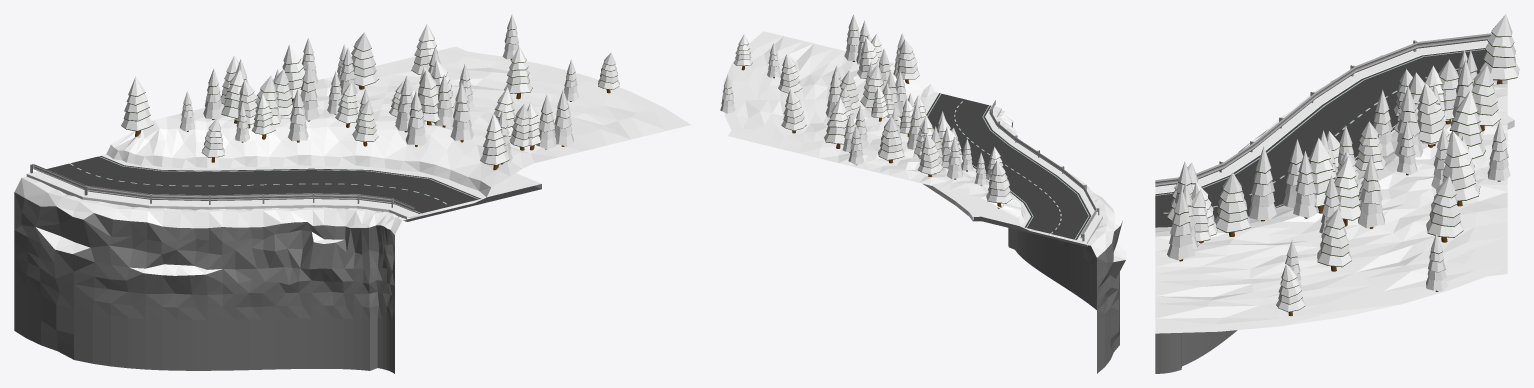
Rendered from SnowRoadStraight6.fbx.
The picture shows the model from 3 angles, left to right: view 1: azimuth 30°, elevation 25°; view 2: azimuth 150°, elevation 25°; view 3: azimuth 270°, elevation 25°; orthographic projection. The views are drawn at different scales.
Parts seen in each view (by area): view 1: SRS6Plane, SRS6Road, SRS6Guardrail, SRS6Plane|pineTree04|Dupli|47, SRS6Plane|pineTree04|Dupli|19, SRS6Plane|pineTree04|Dupli|37, SRS6Plane|pineTree04|Dupli|43, SRS6Plane|pineTree05|Dupli|38, SRS6Plane|pineTree04|Dupli|25, SRS6Plane|pineTree05|Dupli|40, SRS6Plane|pineTree05|Dupli|26, SRS6Plane|pineTree04|Dupli|15 (+17 smaller); view 2: SRS6Plane, SRS6Road, SRS6Plane|pineTree04|Dupli|15, SRS6Plane|pineTree04|Dupli|47, SRS6Guardrail, SRS6Plane|pineTree04|Dupli|19, SRS6Plane|pineTree04|Dupli|33, SRS6Plane|pineTree04|Dupli|3, SRS6Plane|pineTree04|Dupli|37, SRS6Plane|pineTree04|Dupli|43, SRS6Plane|pineTree04|Dupli|25, SRS6Plane|pineTree04|Dupli|35 (+10 smaller); view 3: SRS6Plane, SRS6Road, SRS6Guardrail, SRS6Plane|pineTree04|Dupli|19, SRS6Plane|pineTree04|Dupli|47, SRS6Plane|pineTree04|Dupli|33, SRS6Plane|pineTree04|Dupli|35, SRS6Plane|pineTree04|Dupli|43, SRS6Plane|pineTree05|Dupli|38, SRS6Plane|pineTree04|Dupli|15, SRS6Plane|pineTree04|Dupli|13, SRS6Plane|pineTree05|Dupli|32 (+27 smaller).
Part boxes in pixels (left/top/right/bottom): SRS6Plane: left=14, top=46, right=690, bottom=373; SRS6Road: left=26, top=154, right=541, bottom=221; SRS6Guardrail: left=30, top=164, right=414, bottom=211; SRS6Plane|pineTree04|Dupli|47: left=121, top=77, right=153, bottom=136; SRS6Plane|pineTree04|Dupli|19: left=351, top=32, right=379, bottom=89; SRS6Plane|pineTree04|Dupli|37: left=480, top=113, right=509, bottom=170; SRS6Plane|pineTree04|Dupli|43: left=504, top=46, right=532, bottom=99; SRS6Plane|pineTree05|Dupli|38: left=450, top=82, right=473, bottom=142; SRS6Plane|pineTree04|Dupli|25: left=418, top=70, right=439, bottom=125; SRS6Plane|pineTree05|Dupli|40: left=554, top=89, right=573, bottom=146; SRS6Plane|pineTree05|Dupli|26: left=405, top=91, right=427, bottom=146; SRS6Plane|pineTree04|Dupli|15: left=282, top=44, right=305, bottom=102; SRS6Plane: left=722, top=31, right=1126, bottom=373; SRS6Road: left=923, top=92, right=1102, bottom=246; SRS6Plane|pineTree04|Dupli|15: left=878, top=116, right=904, bottom=163; SRS6Plane|pineTree04|Dupli|47: left=986, top=161, right=1012, bottom=208; SRS6Guardrail: left=989, top=100, right=1099, bottom=241; SRS6Plane|pineTree04|Dupli|19: left=824, top=98, right=847, bottom=148; SRS6Plane|pineTree04|Dupli|33: left=781, top=89, right=806, bottom=133; SRS6Plane|pineTree04|Dupli|3: left=917, top=134, right=942, bottom=176; SRS6Plane|pineTree04|Dupli|37: left=895, top=39, right=919, bottom=83; SRS6Plane|pineTree04|Dupli|43: left=778, top=54, right=802, bottom=93; SRS6Plane|pineTree04|Dupli|25: left=860, top=64, right=884, bottom=111; SRS6Plane|pineTree04|Dupli|35: left=857, top=37, right=879, bottom=78; SRS6Plane: left=1155, top=55, right=1507, bottom=373; SRS6Road: left=1155, top=40, right=1514, bottom=227; SRS6Guardrail: left=1155, top=33, right=1491, bottom=186; SRS6Plane|pineTree04|Dupli|19: left=1442, top=131, right=1480, bottom=206; SRS6Plane|pineTree04|Dupli|47: left=1479, top=14, right=1519, bottom=84; SRS6Plane|pineTree04|Dupli|33: left=1426, top=176, right=1463, bottom=242; SRS6Plane|pineTree04|Dupli|35: left=1214, top=172, right=1250, bottom=236; SRS6Plane|pineTree04|Dupli|43: left=1317, top=208, right=1351, bottom=271; SRS6Plane|pineTree05|Dupli|38: left=1249, top=146, right=1276, bottom=221; SRS6Plane|pineTree04|Dupli|15: left=1448, top=90, right=1485, bottom=159; SRS6Plane|pineTree04|Dupli|13: left=1417, top=83, right=1449, bottom=147; SRS6Plane|pineTree05|Dupli|32: left=1358, top=155, right=1384, bottom=228.
Size of what is drawn, in the model's own units: 22411 by 9338 by 10334.
